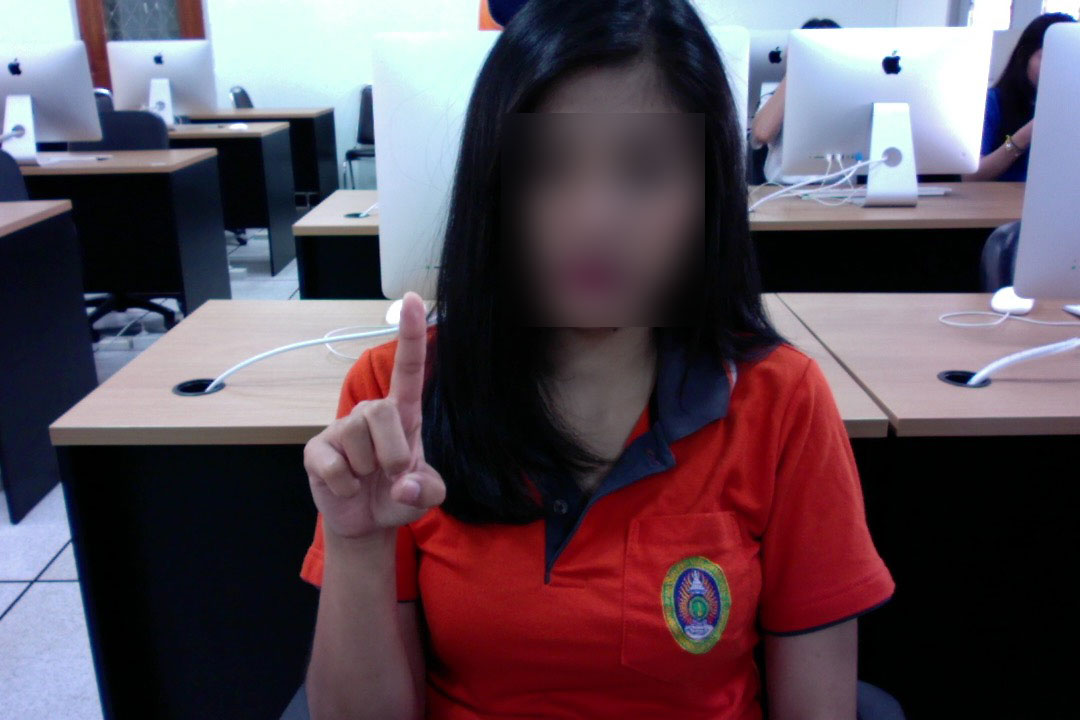dor: (292, 280, 451, 570)
